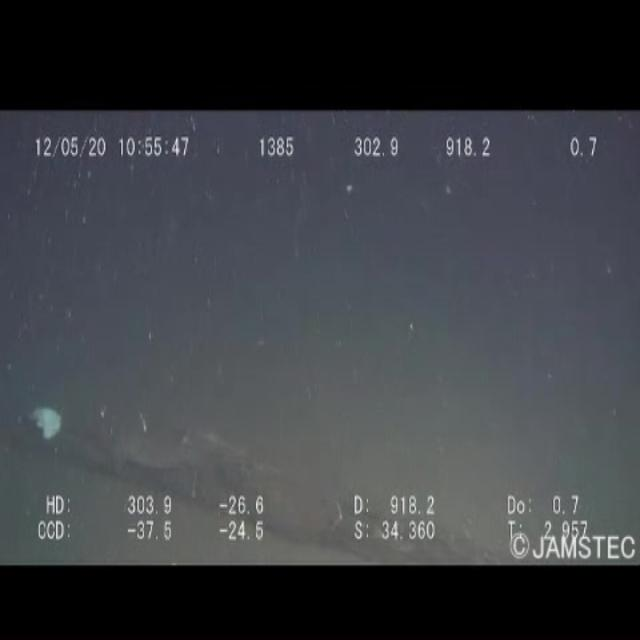Plastic: (23, 399, 72, 459)
